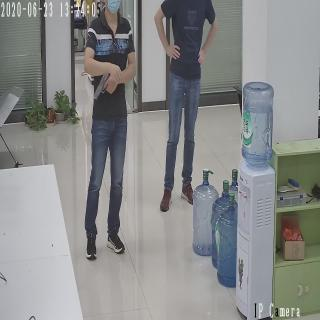gun: (92, 70, 114, 100)
